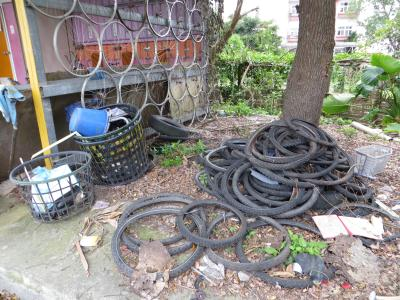bucket: (67, 107, 112, 140)
tire: (113, 208, 207, 281), (204, 211, 293, 274), (247, 118, 318, 171), (176, 200, 245, 248), (148, 114, 188, 137)
